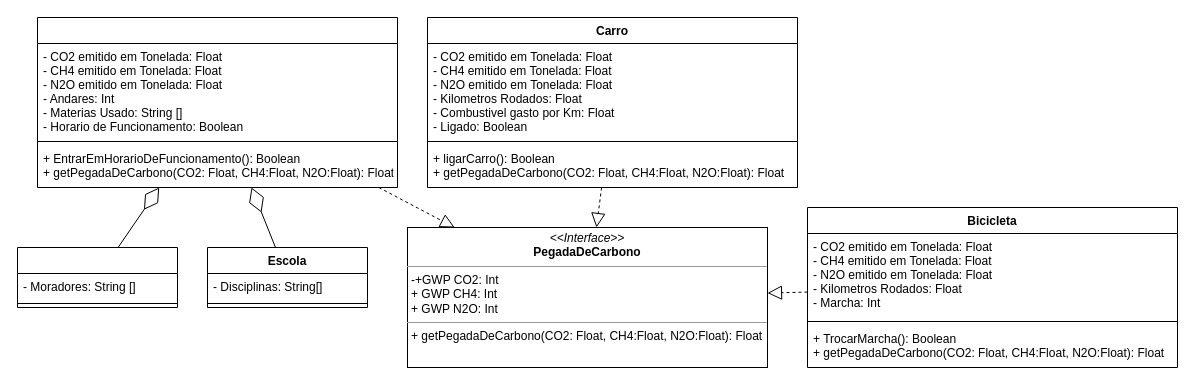
This 1195x388 diagram has some shape labels left out. The shapes that lost their labels are listed below. From the top down, each one's box as (x1, y1, x2, y2) in pixels, then its label:
(36, 16, 398, 188): Prédio Abstrato
(16, 246, 178, 308): Casa
